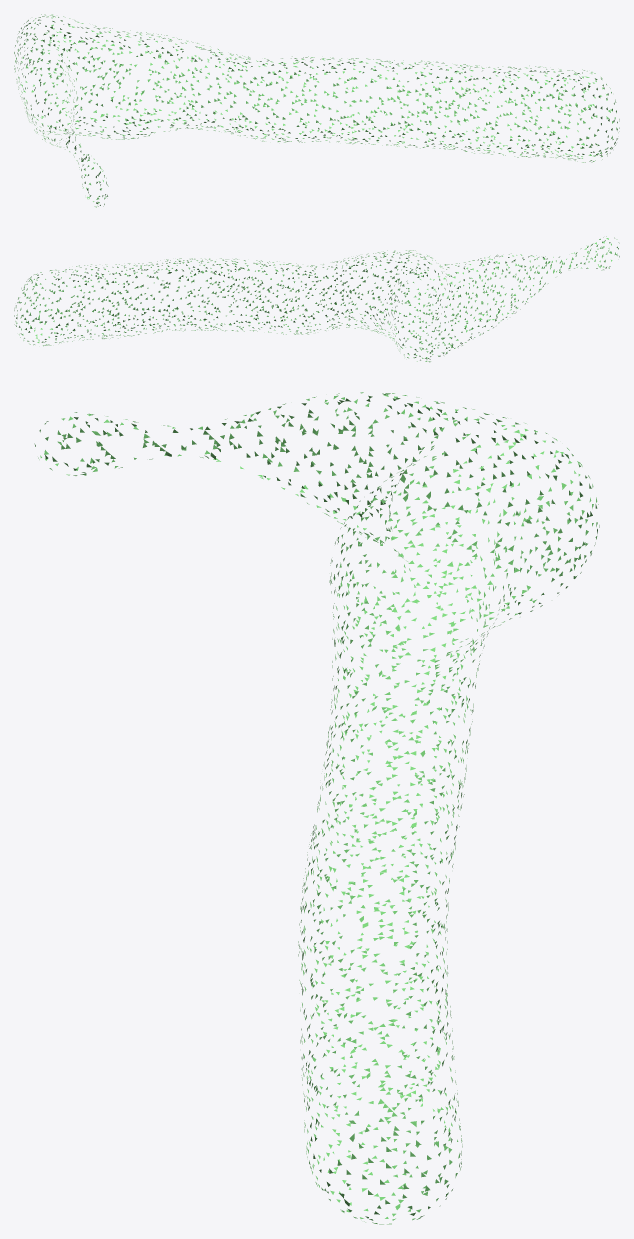
The model's file is morph_017.glb.
The picture shows the model from 3 angles, top to bottom: view 1: azimuth 30°, elevation 25°; view 2: azimuth 150°, elevation 25°; view 3: azimuth 270°, elevation 25°; orthographic projection. The views are drawn at different scales.
Size of the model in its own units: 145 by 53.09 by 69.3.
